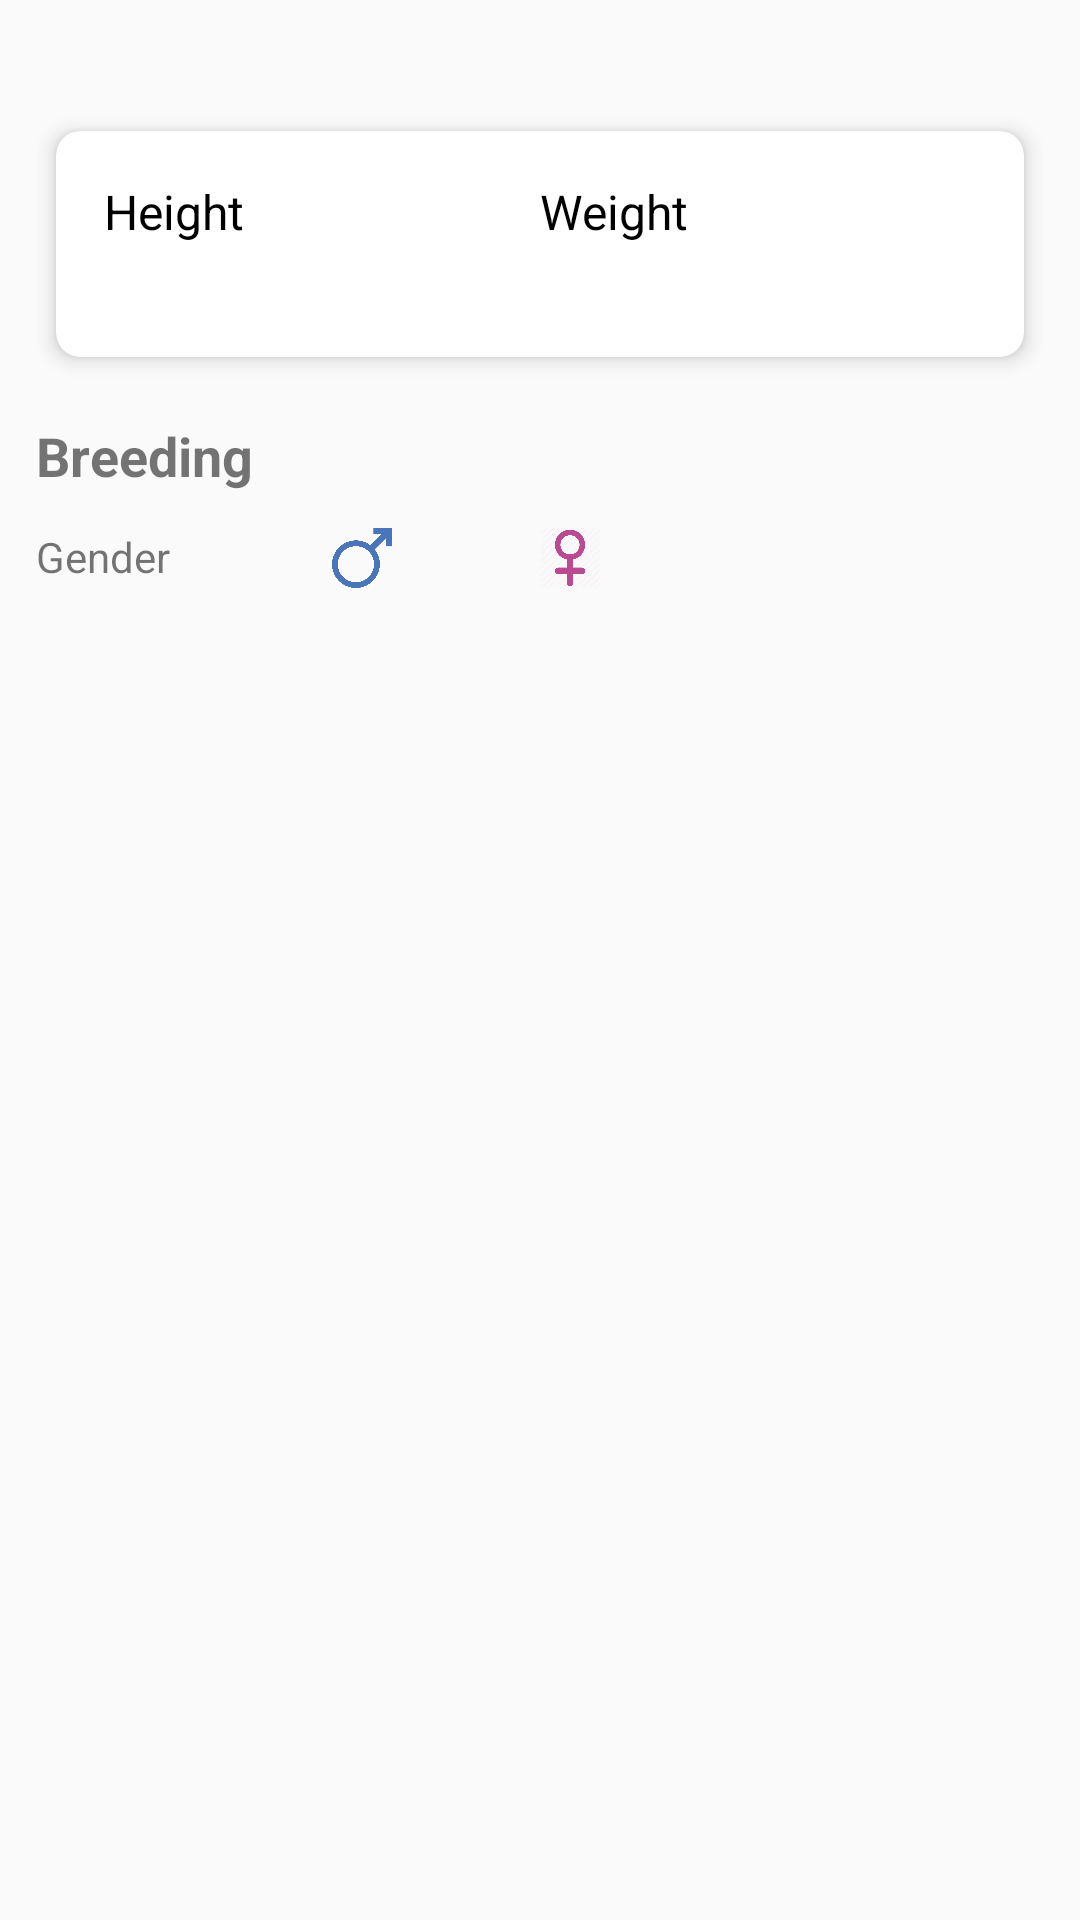

Icon bounding boxes for this 1080px x 1920px phone screenshot, format (x1, y1, x2, y2):
female symbol: (555, 530, 585, 586)
male symbol: (332, 528, 392, 588)
